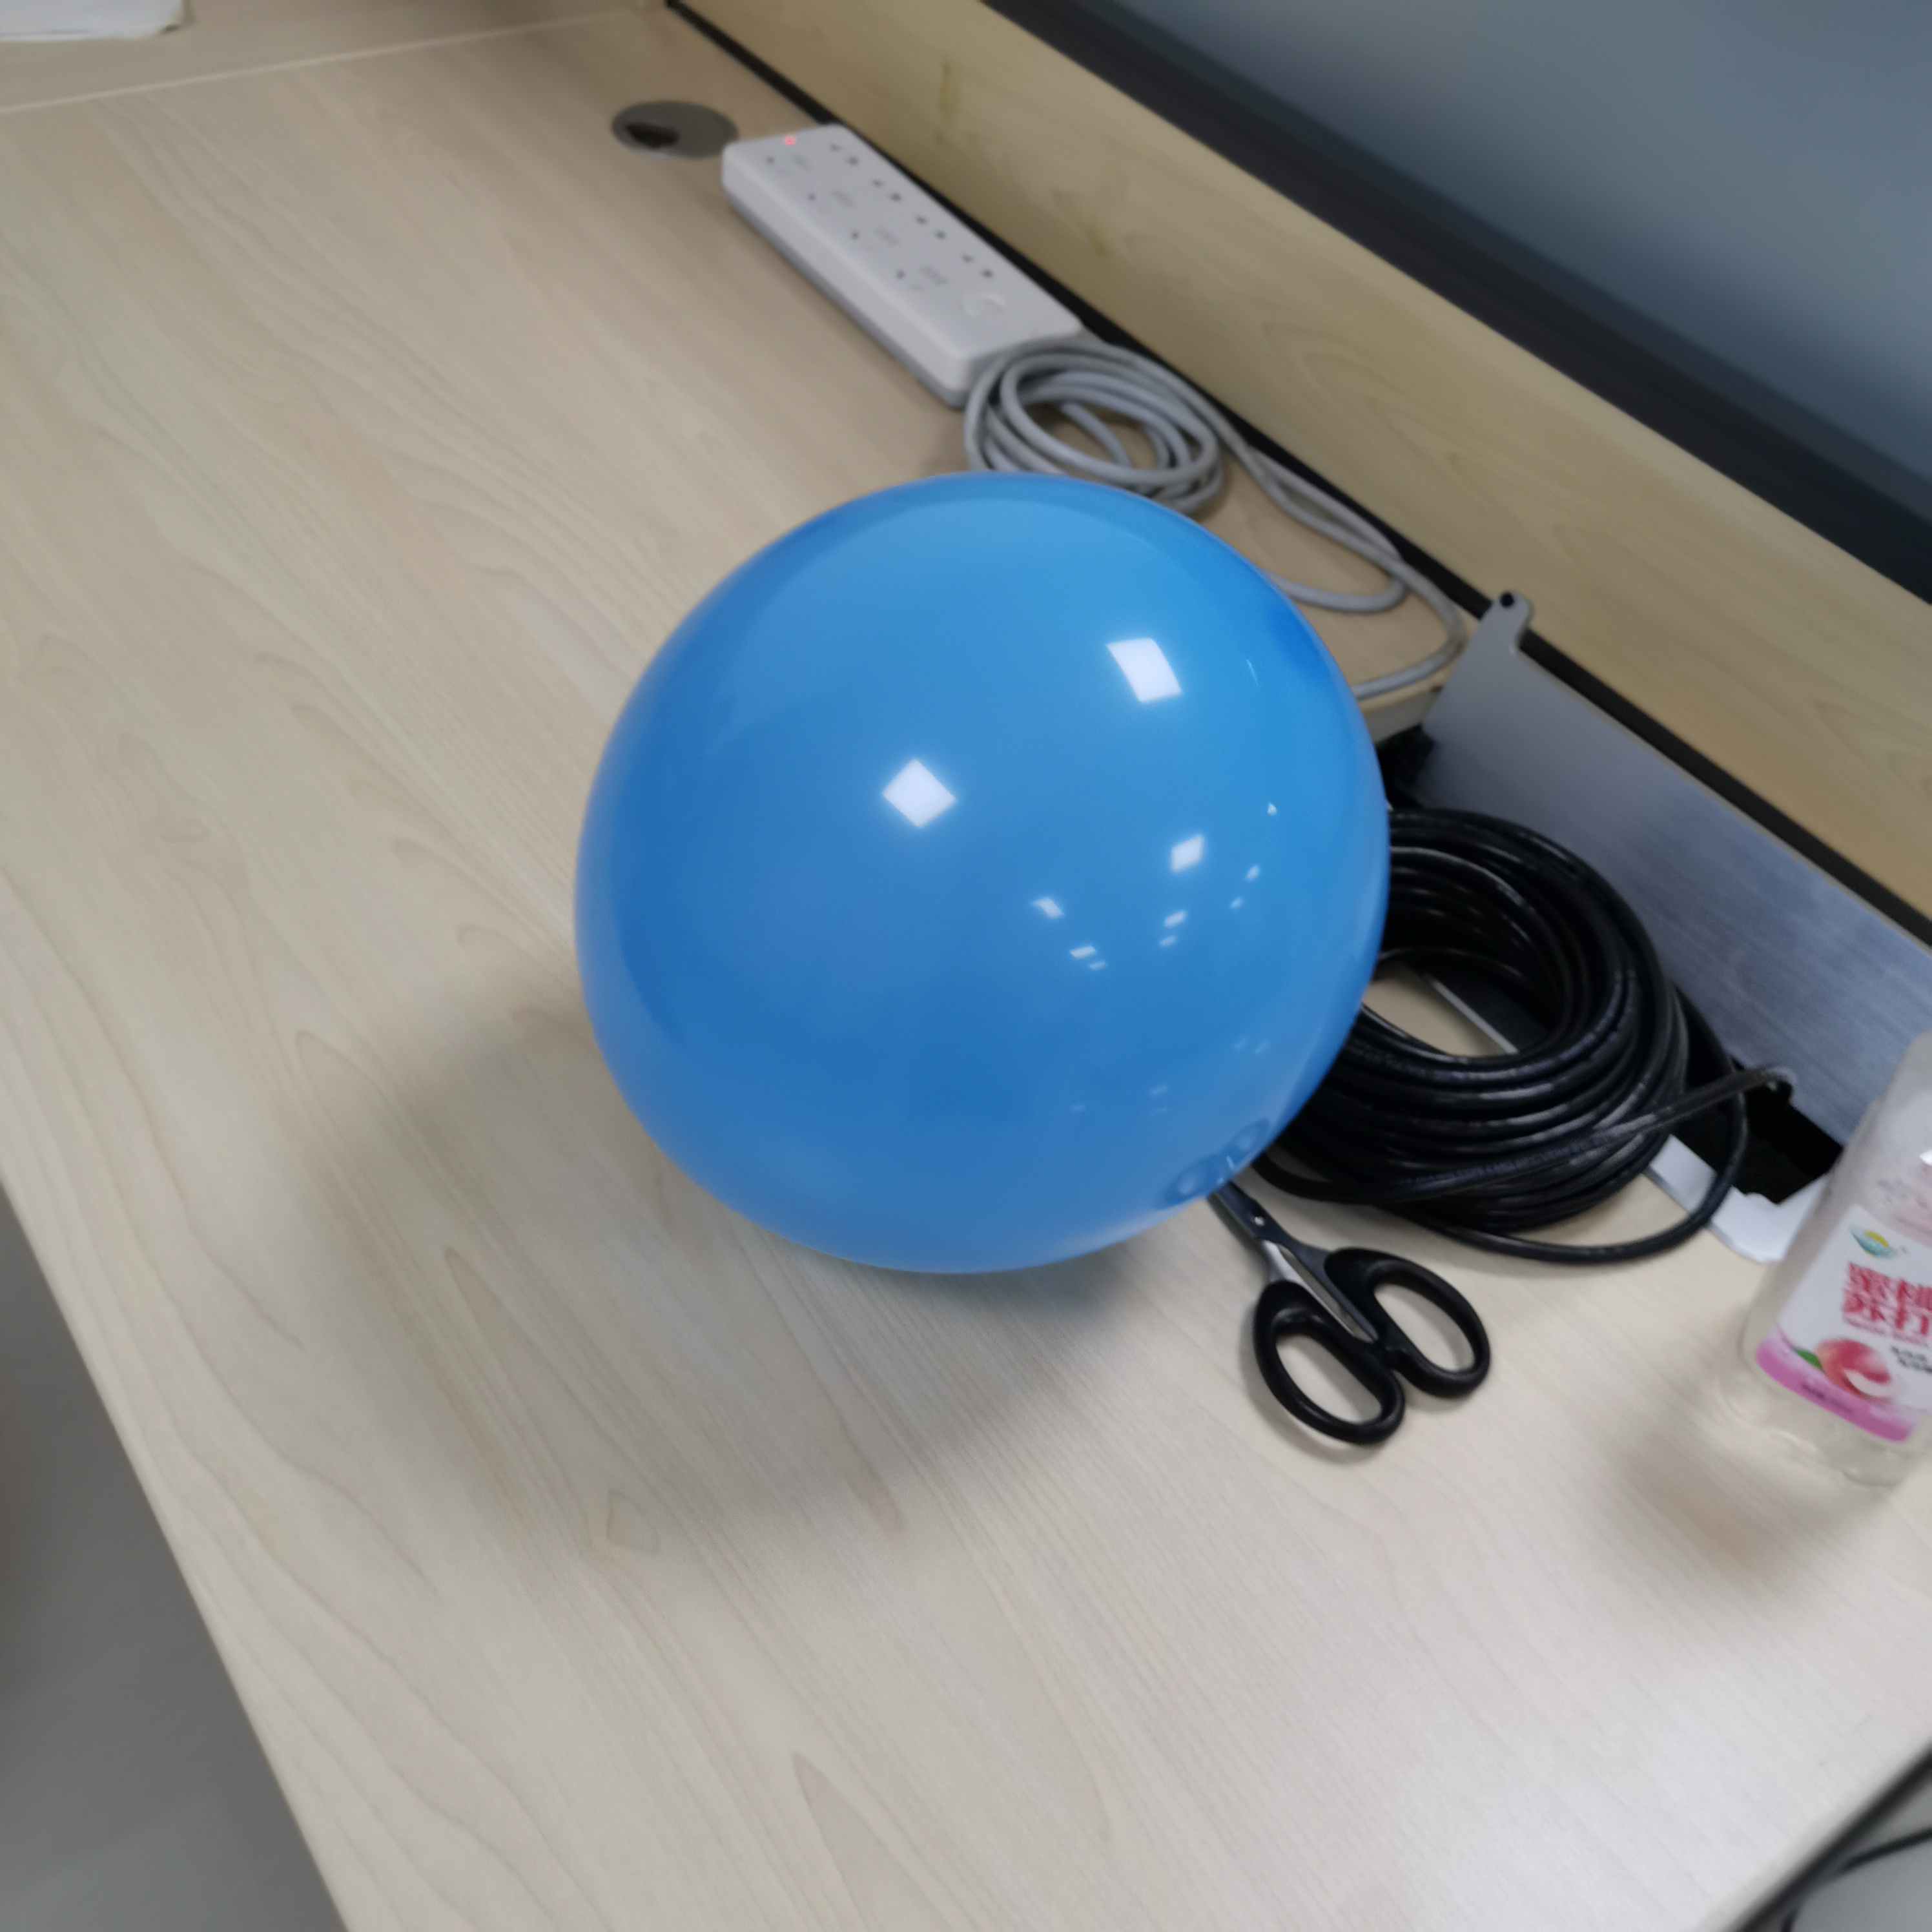balloon: (570, 474, 1384, 1279)
